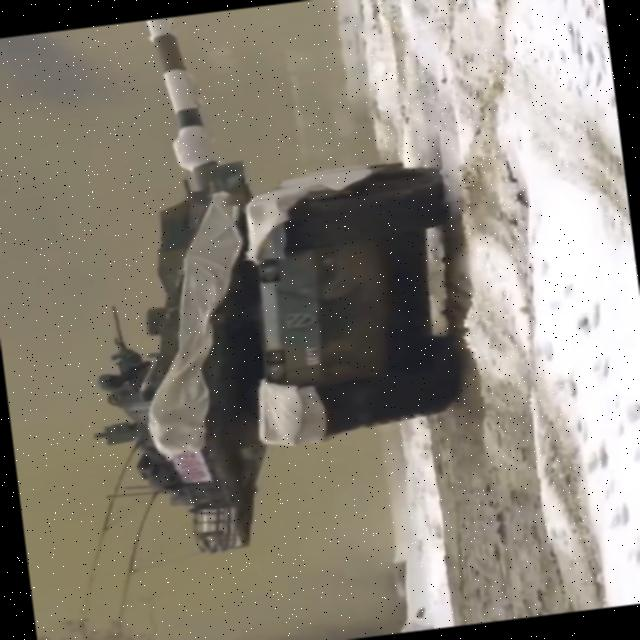korea tank: (39, 0, 490, 567)
